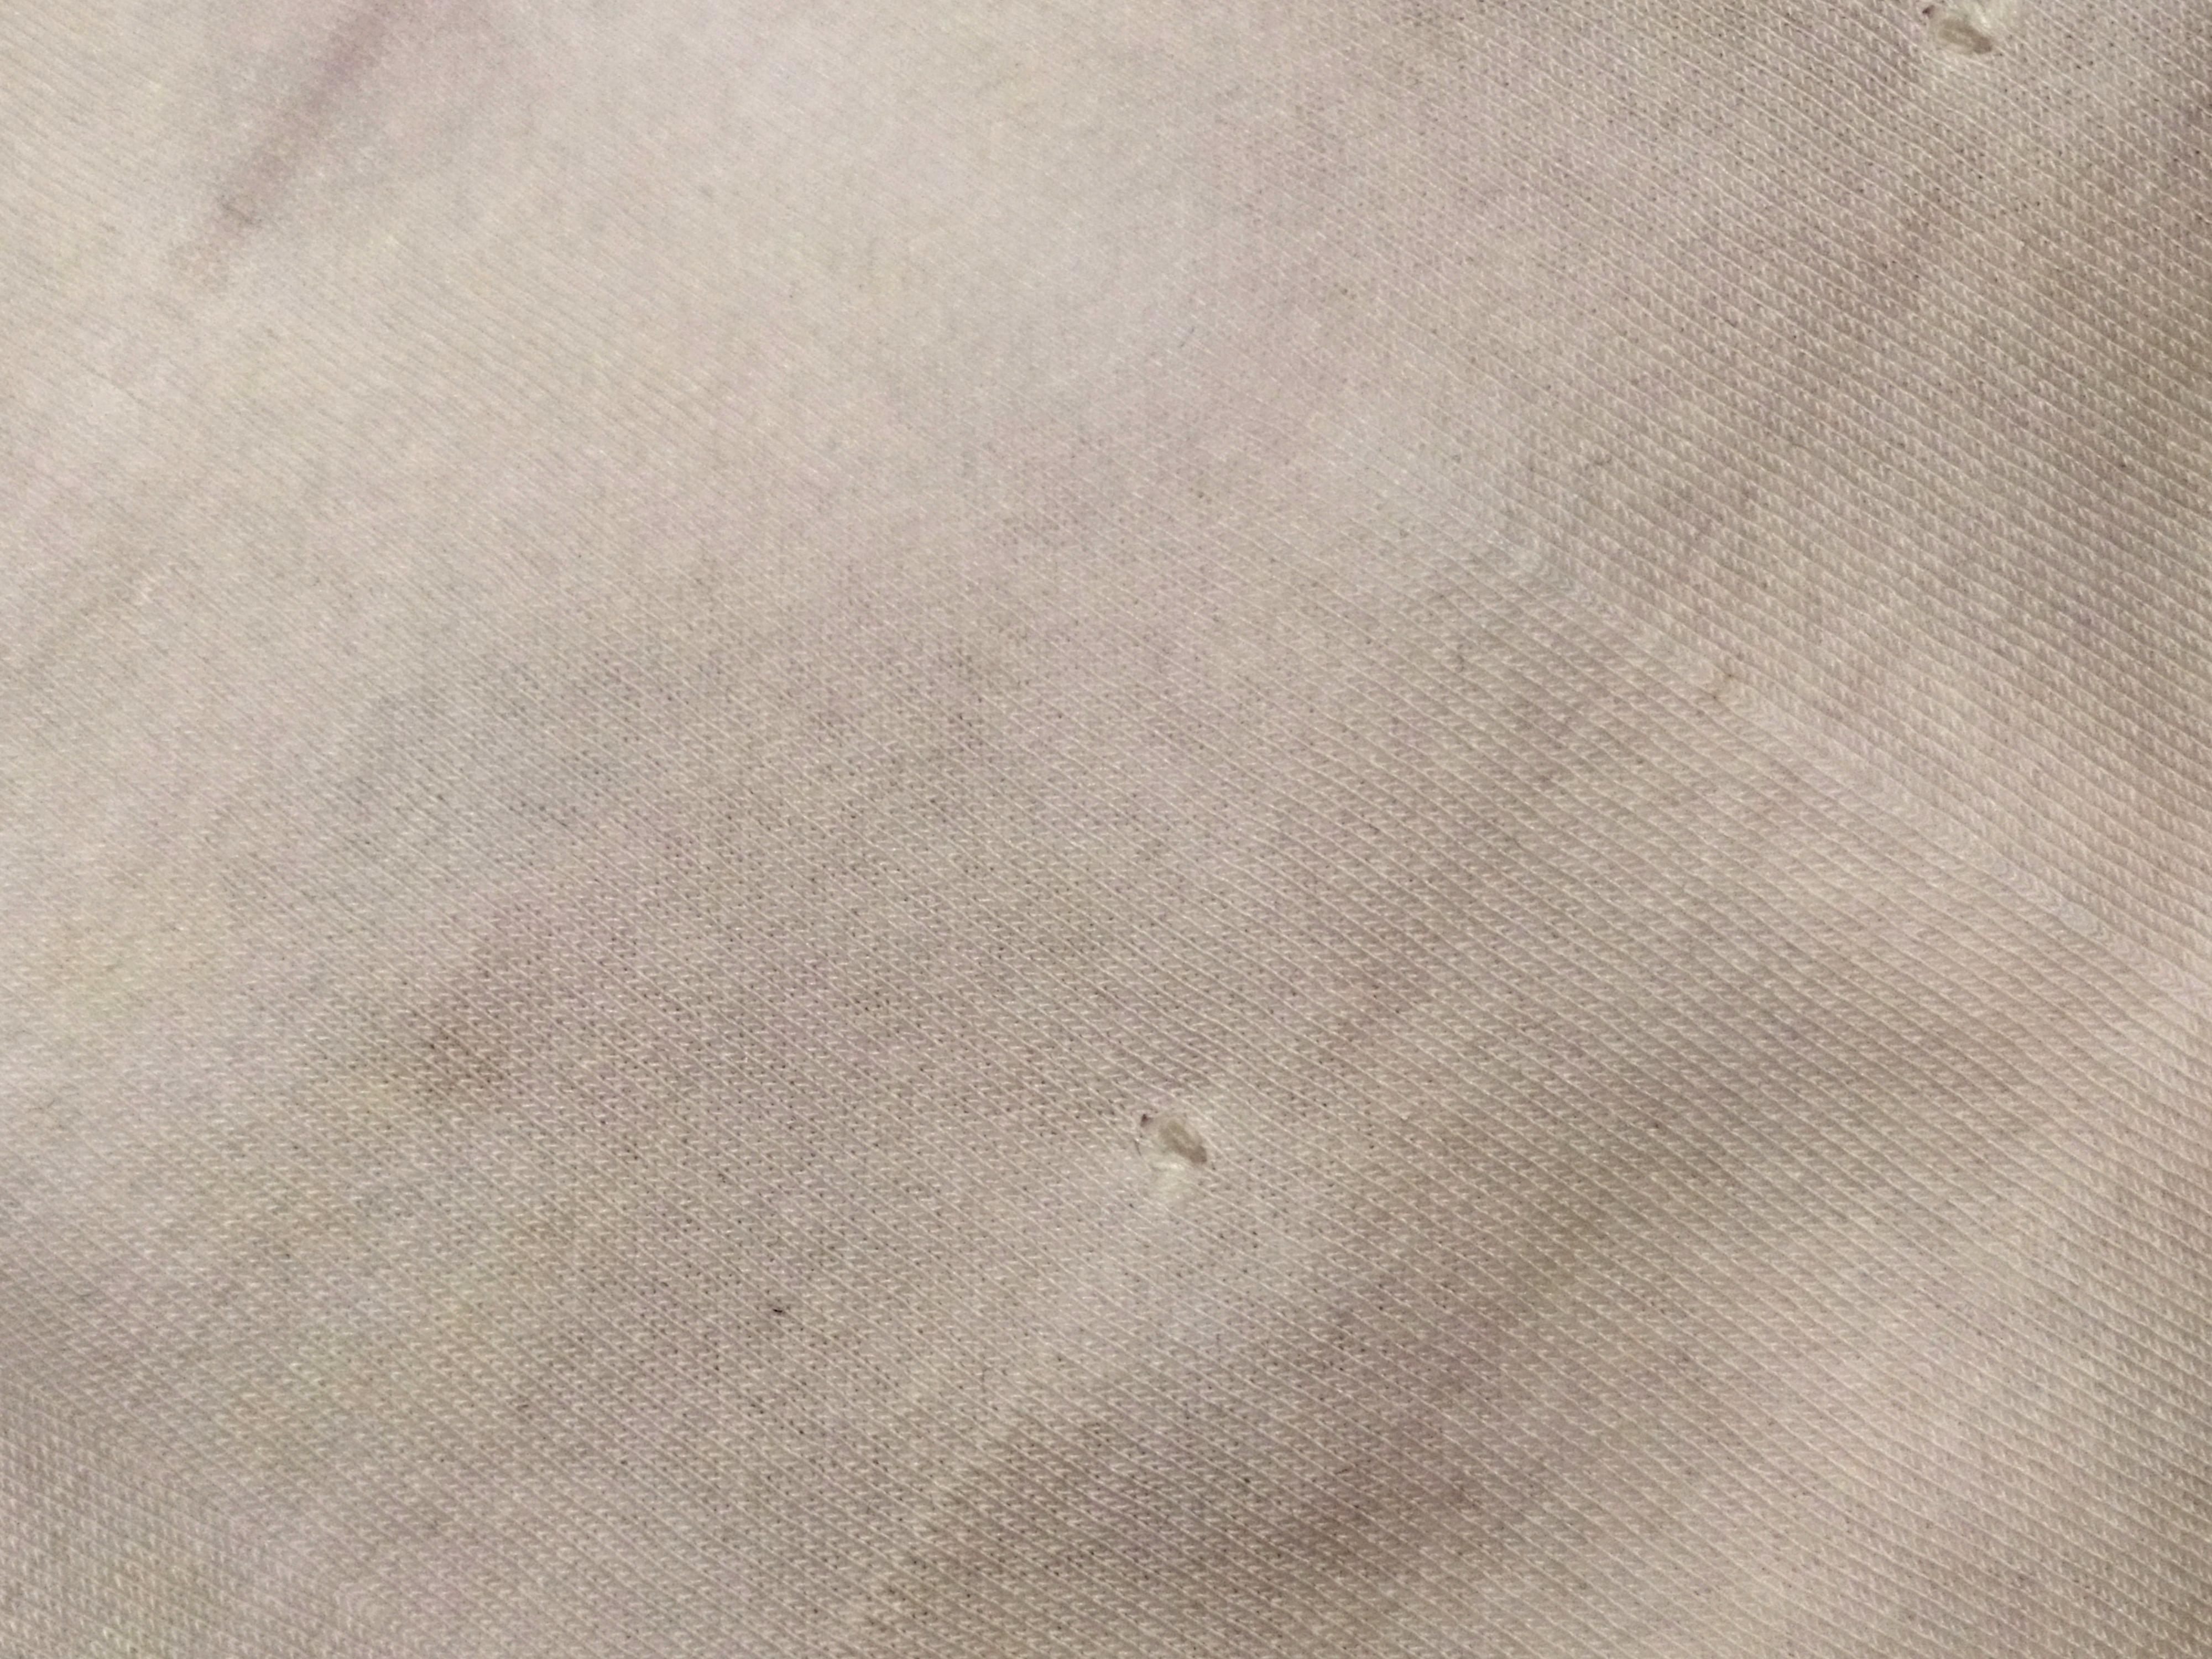knot: (1099, 1072, 1264, 1209), (1905, 3, 2048, 89)
